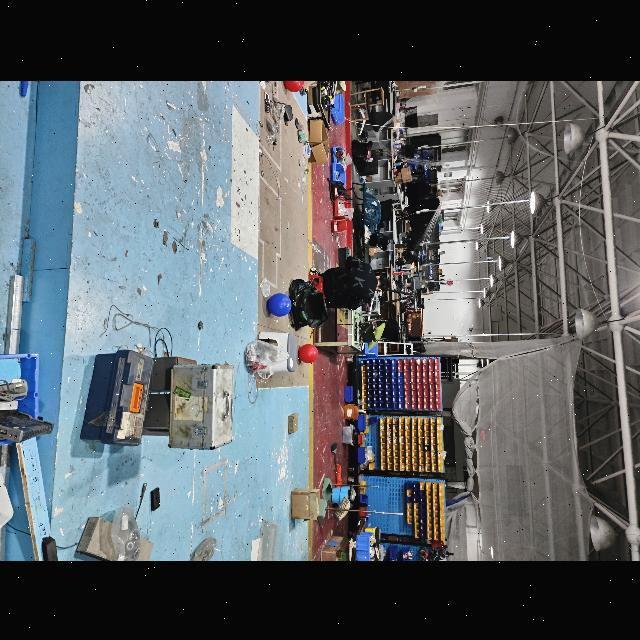B: (267, 293, 291, 315)
R: (298, 342, 318, 362), (284, 80, 304, 92)
